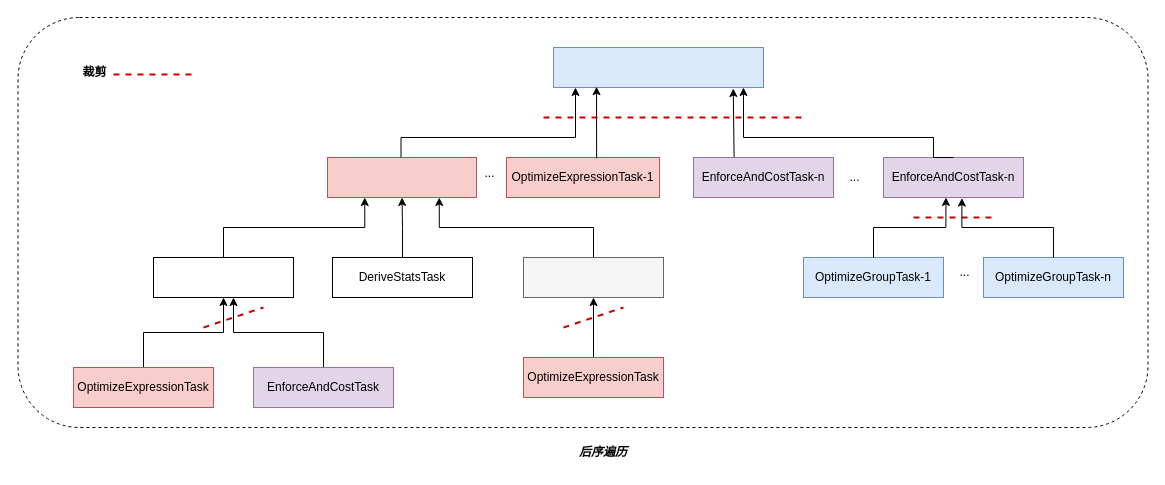
The diagram is 1165 pixels wide and 485 high, and some of its shapes have lost their labels. The shapes that lost their labels are listed below. From the top down, each one's box as (x1, y1, x2, y2) in pixels, then its label:
(552, 46, 764, 88): OptimizeGroupTask
(326, 156, 476, 198): OptimizeExpressionTask-n
(152, 256, 294, 298): ApplyRuleTask
(522, 256, 664, 298): ExporeGroupTask
